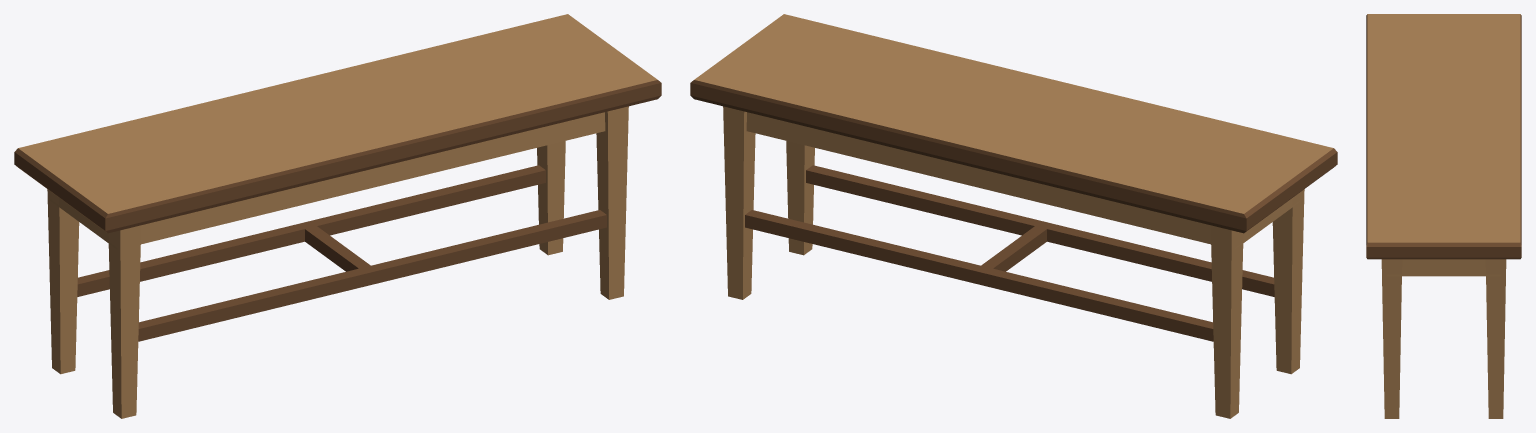
Rendered from FN_Bench_Dining.glb.
3 views of the same model, side by side, from view 1: azimuth 30°, elevation 25°; view 2: azimuth 150°, elevation 25°; view 3: azimuth 270°, elevation 25° (orthographic). The views are drawn at different scales.
Visible parts, largest first — view 1: FN_Bench_Dining; view 2: FN_Bench_Dining; view 3: FN_Bench_Dining.
Boxes of the visible parts, left/top/right/bottom form: FN_Bench_Dining: left=14, top=14, right=661, bottom=418; FN_Bench_Dining: left=690, top=14, right=1337, bottom=418; FN_Bench_Dining: left=1366, top=14, right=1521, bottom=418.
Bounding box in the file's own units: 1.2 × 0.45 × 0.34.
1 material, 1 textured.
